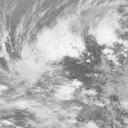cyclone: (23, 29, 86, 77)
